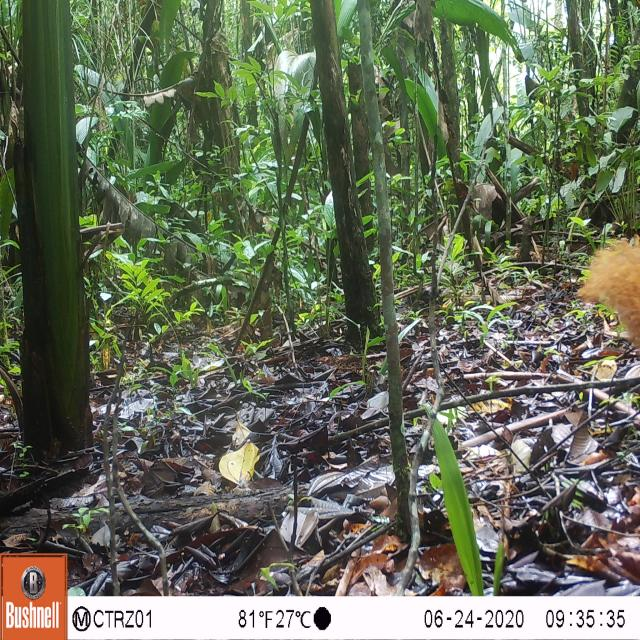Squirrel: (554, 217, 640, 358)
